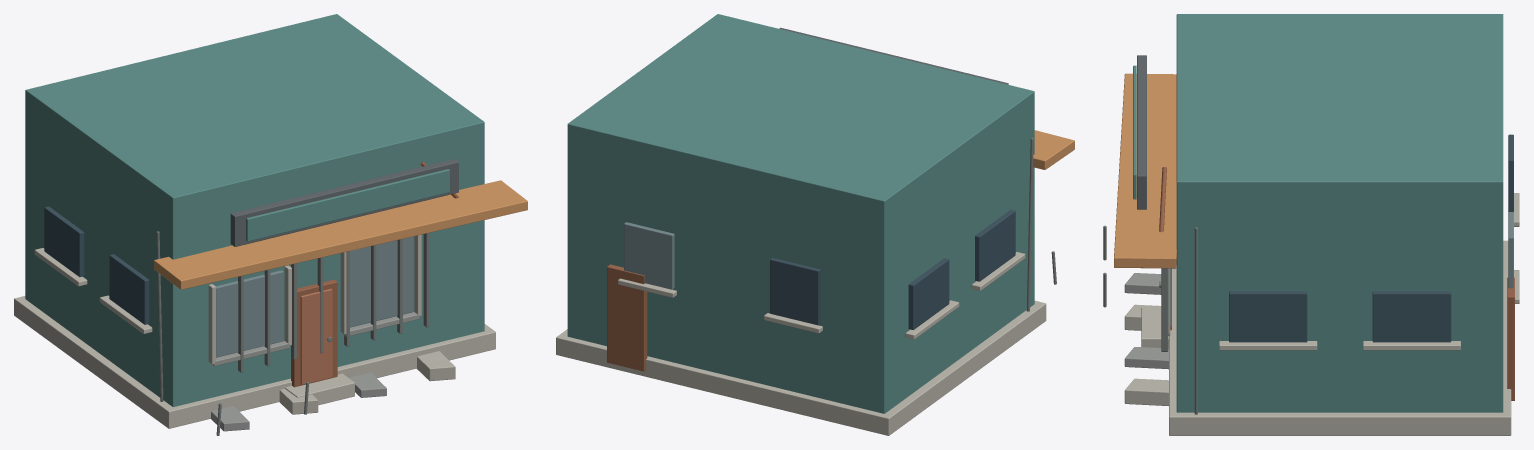
File: Apoc_House_04_Ruined_Corner_Shop.fbx
3 renders of one model, left to right at view 1: azimuth 30°, elevation 25°; view 2: azimuth 150°, elevation 25°; view 3: azimuth 270°, elevation 25°, orthographic. The views are drawn at different scales.
Parts seen in each view (by area): view 1: Apoc_House_04_Ruined_Corner_Shop; view 2: Apoc_House_04_Ruined_Corner_Shop; view 3: Apoc_House_04_Ruined_Corner_Shop.
Part boxes in pixels (<box>): Apoc_House_04_Ruined_Corner_Shop: <box>14,14,527,435</box>; Apoc_House_04_Ruined_Corner_Shop: <box>556,14,1074,435</box>; Apoc_House_04_Ruined_Corner_Shop: <box>1103,14,1519,435</box>.
Bounding box in the file's own units: 6.17 × 3.9 × 5.87.
